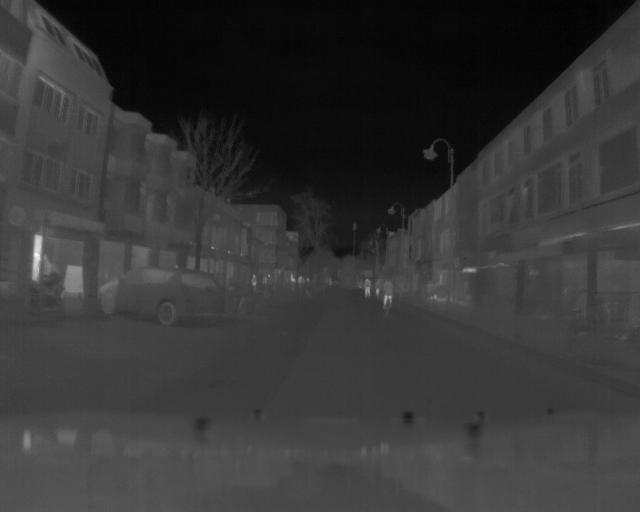car: (97, 263, 226, 327)
person: (379, 279, 395, 312), (361, 277, 373, 299)
